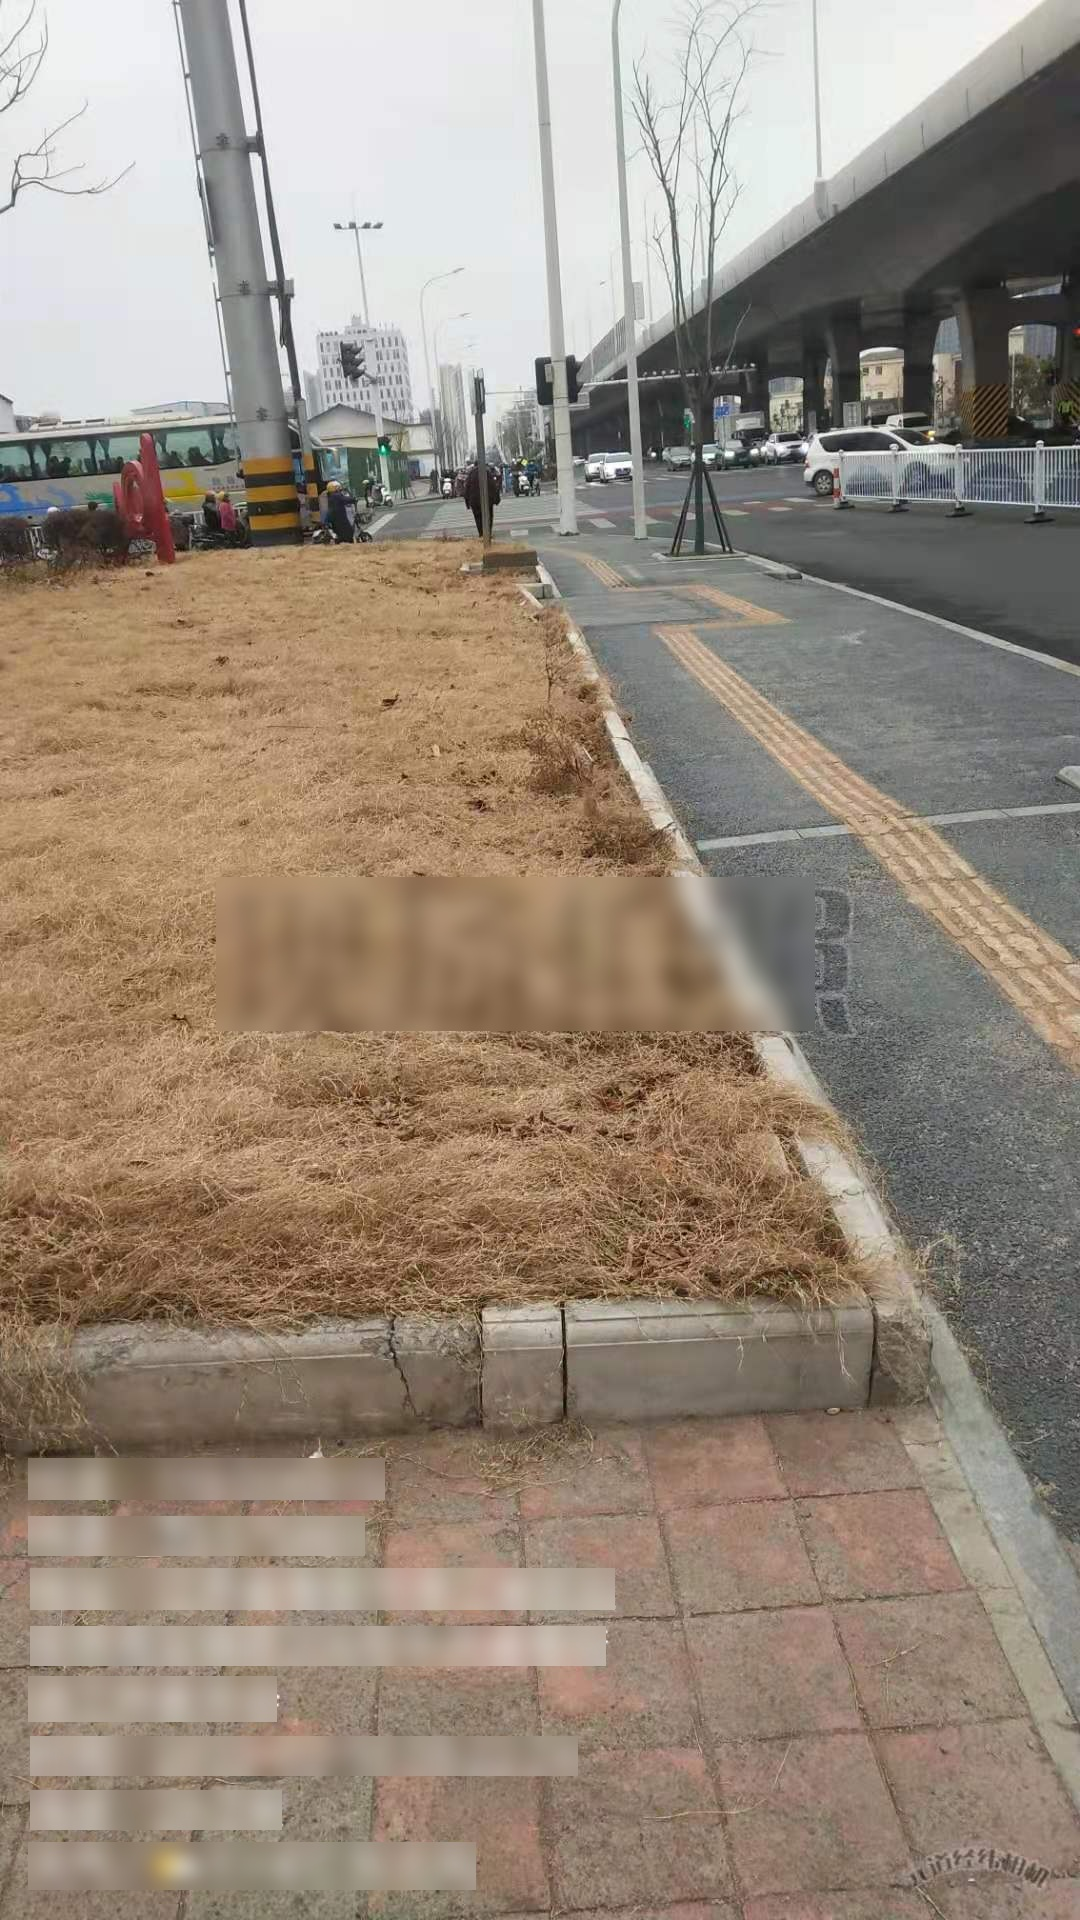good: (545, 582, 741, 628)
